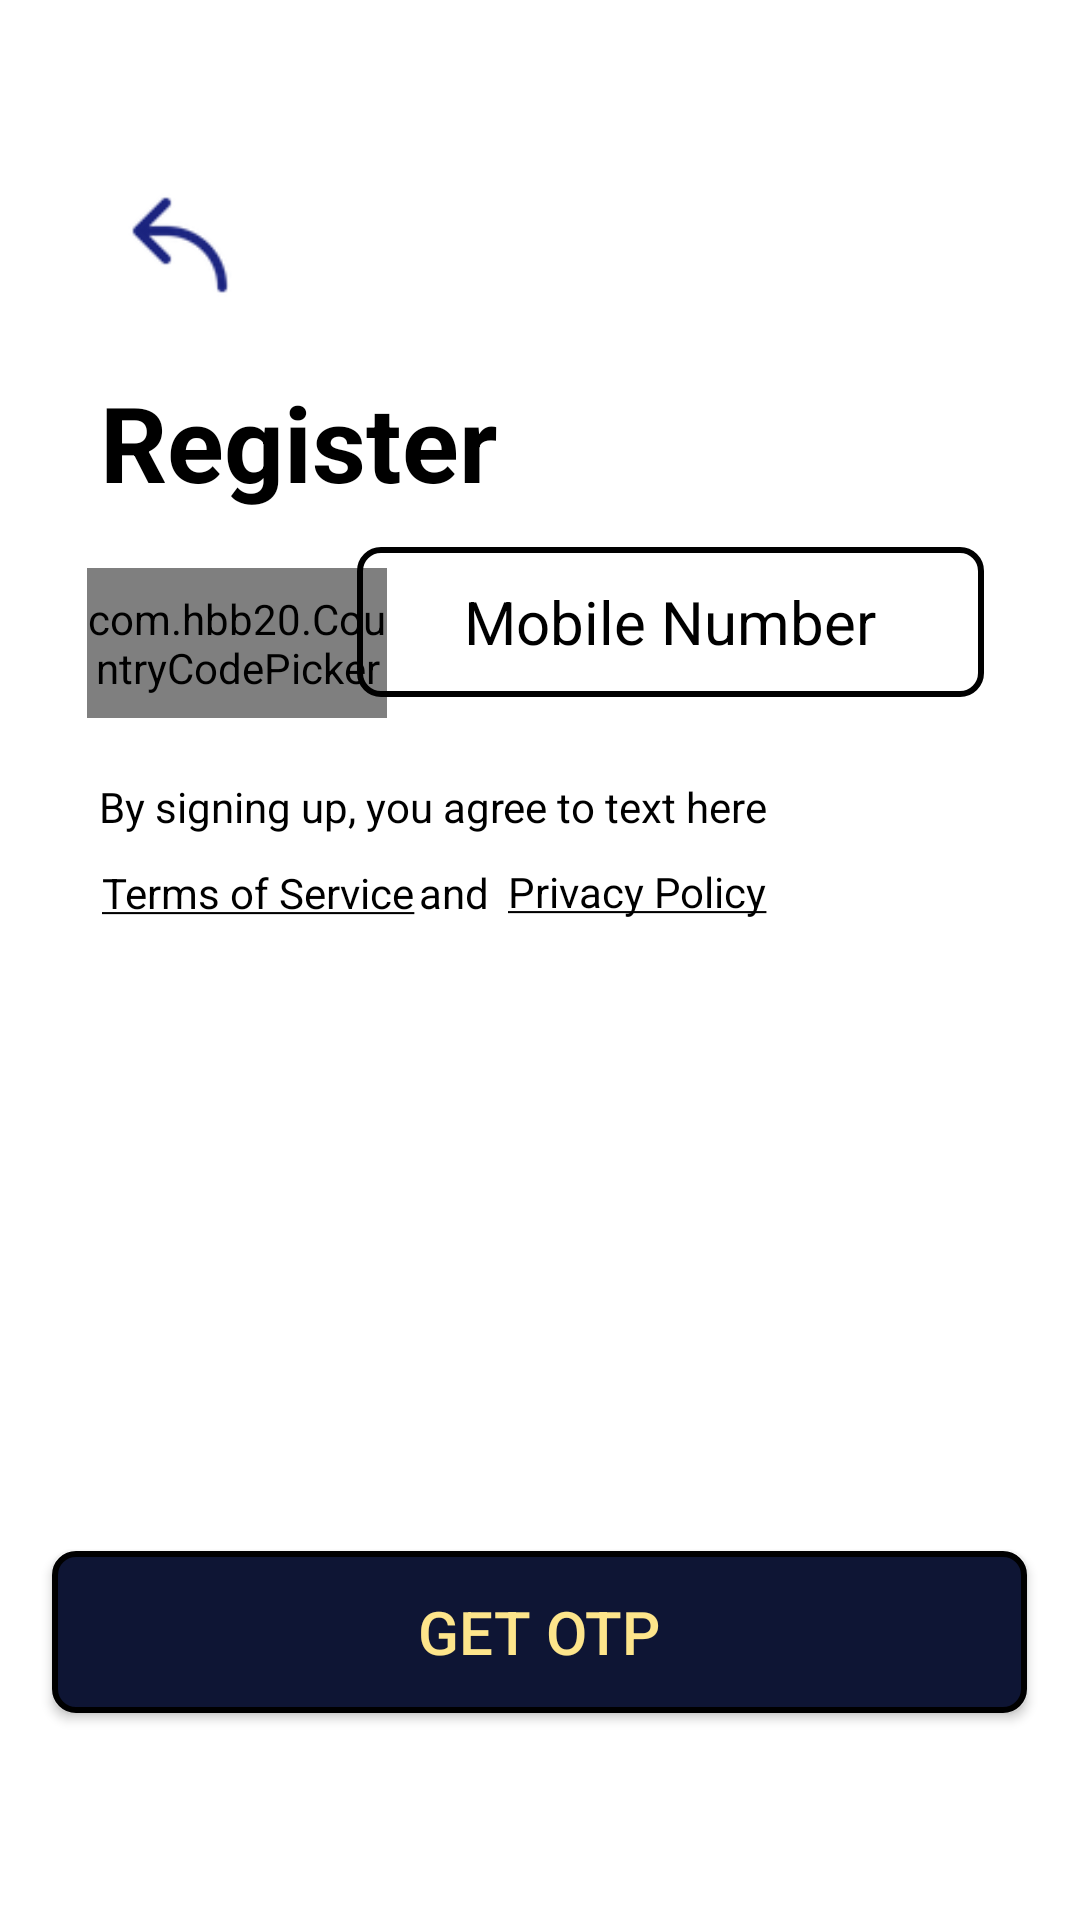

Icon bounding boxes for this 1080w x 1920h phone screenshot, format (x1, y1, x2, y2):
backarrow: (132, 197, 228, 293)
